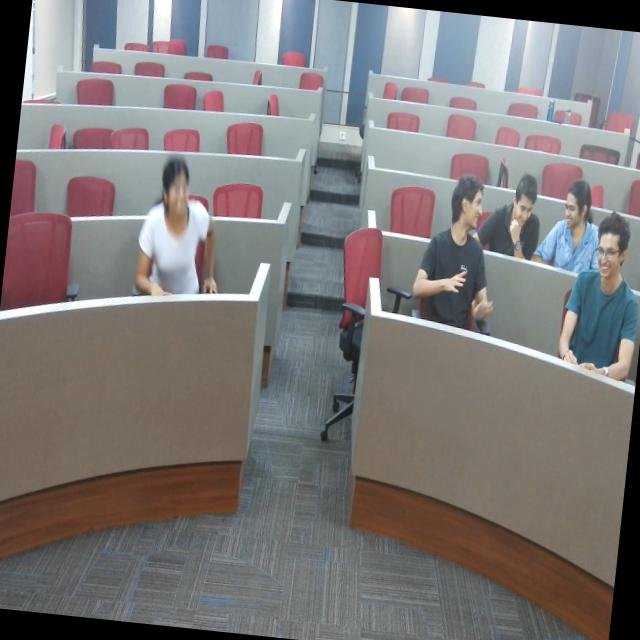cheating: (400, 164, 501, 362), (547, 171, 598, 276), (499, 162, 545, 276)
